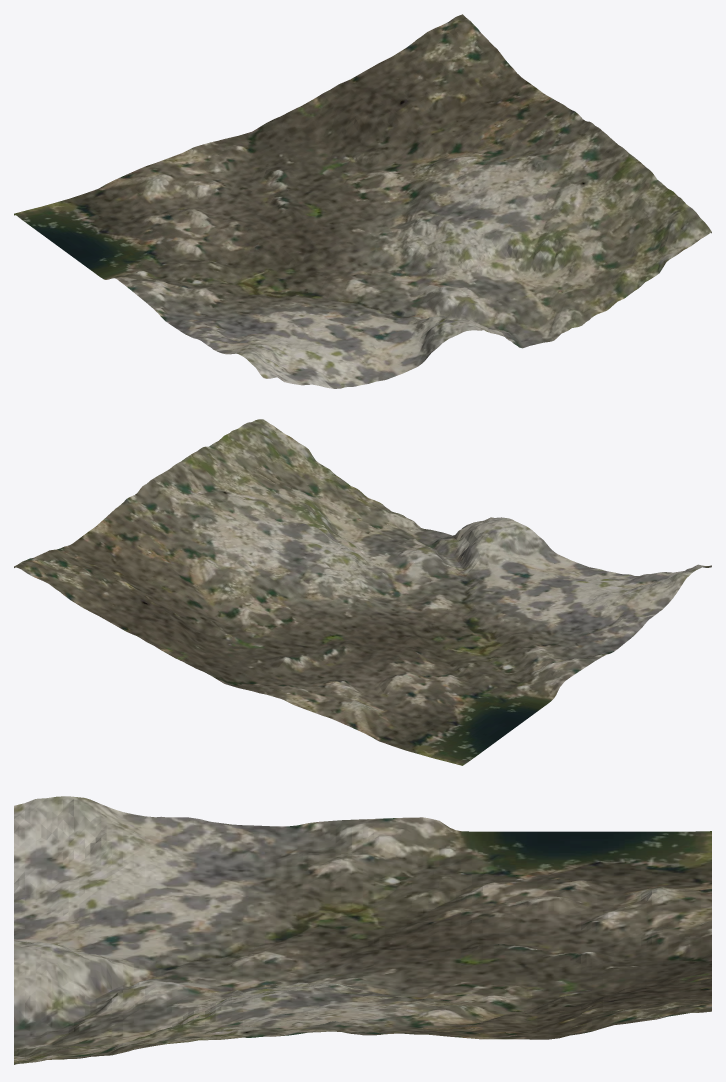
3 renders of one model, top to bottom at view 1: azimuth 30°, elevation 25°; view 2: azimuth 150°, elevation 25°; view 3: azimuth 270°, elevation 25°, orthographic. The views are drawn at different scales.
Size of the model in its own units: 250 by 57.24 by 241.
Materials: 1 (1 with a texture image).
